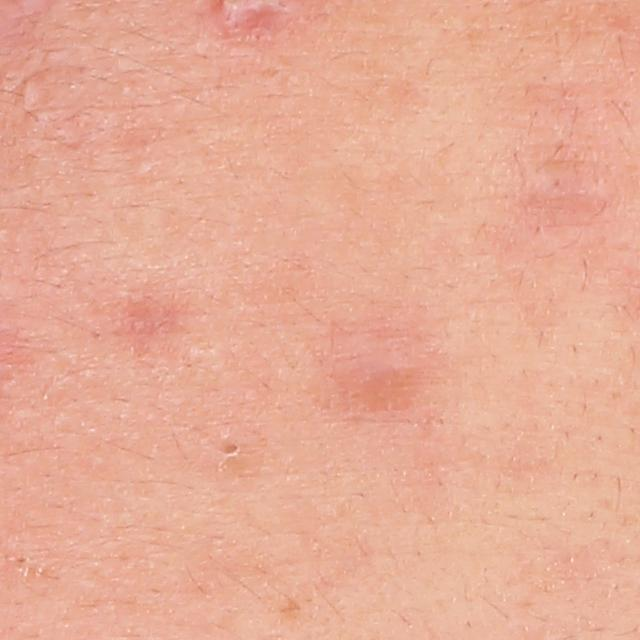comedo: (211, 435, 247, 472)
